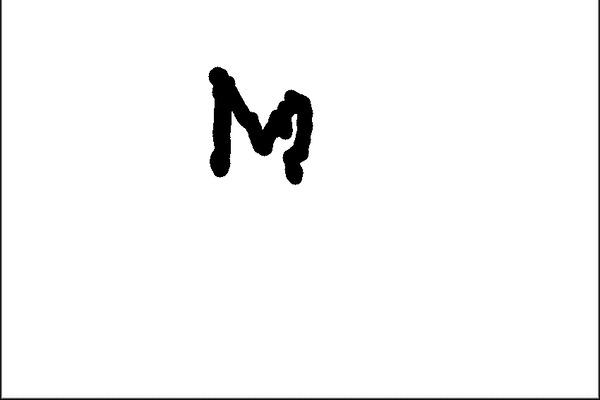M: (199, 64, 314, 185)
